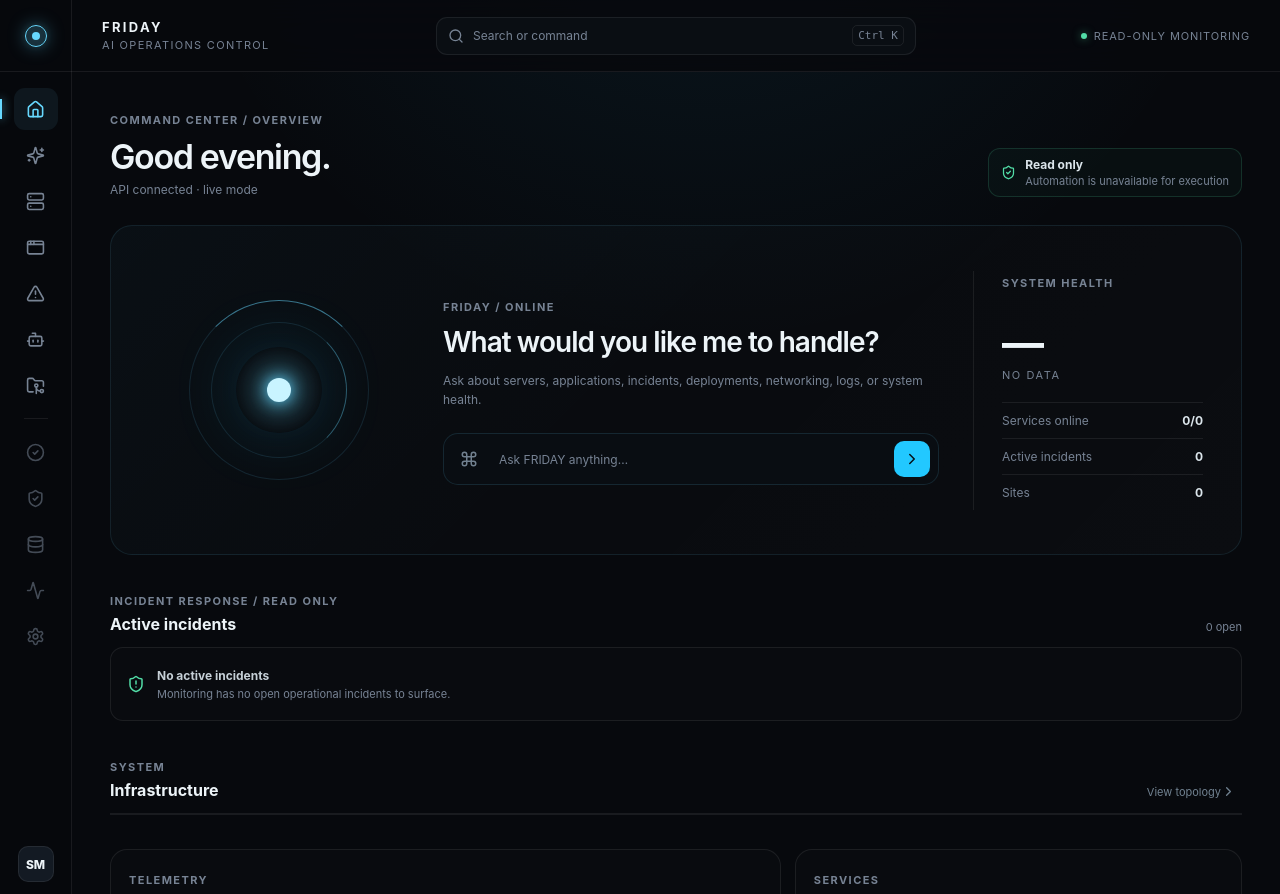
Dashboard assistant integration › opens the repository workspace from the desktop navigation
The width and height of the screenshot is (1280, 894).
Click the button named "Repositories". click: (36, 385)
box: [14,364,58,406]
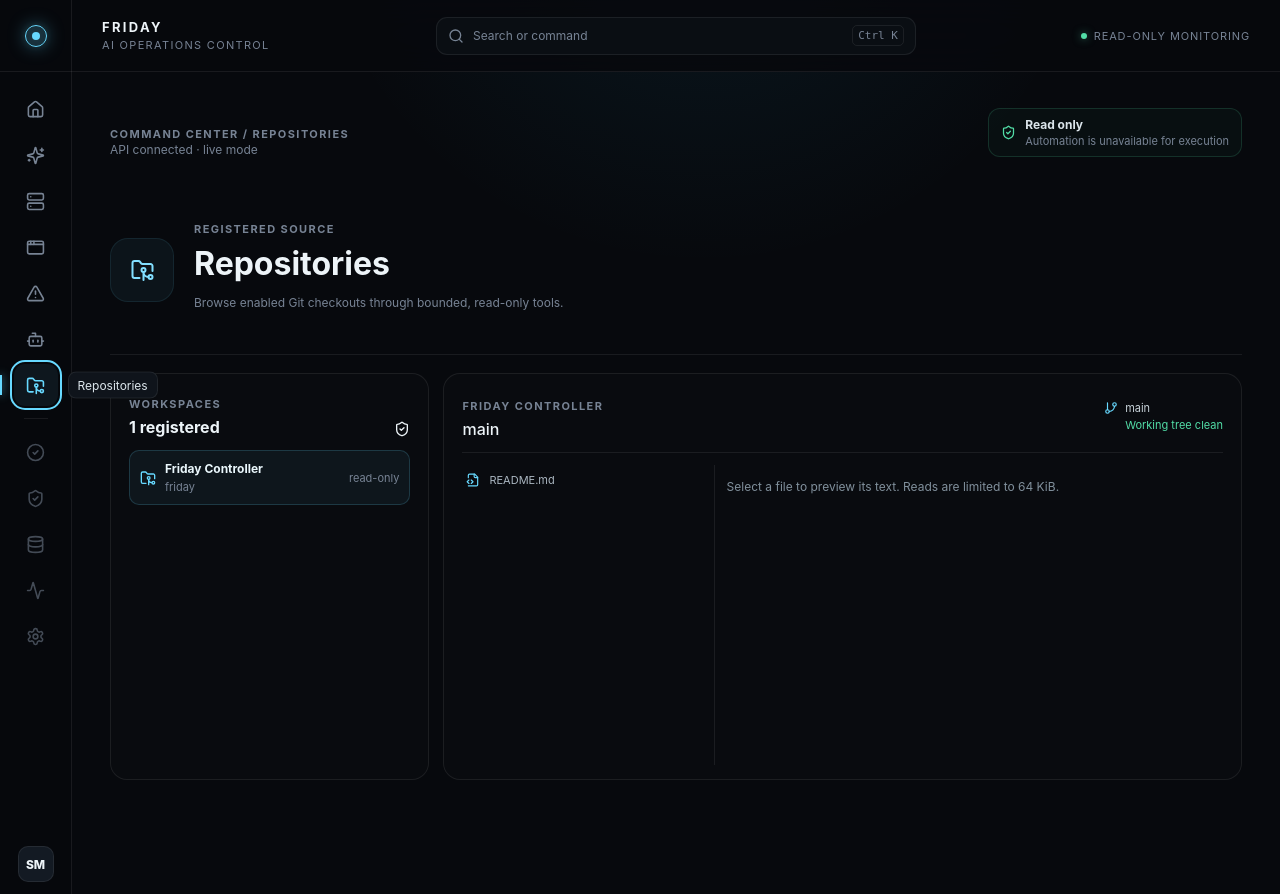
Expected: the text "Friday Controller" is shown, [165,461,263,476]
Expected: the text "Working tree clean" is shown, [1125,418,1223,432]
